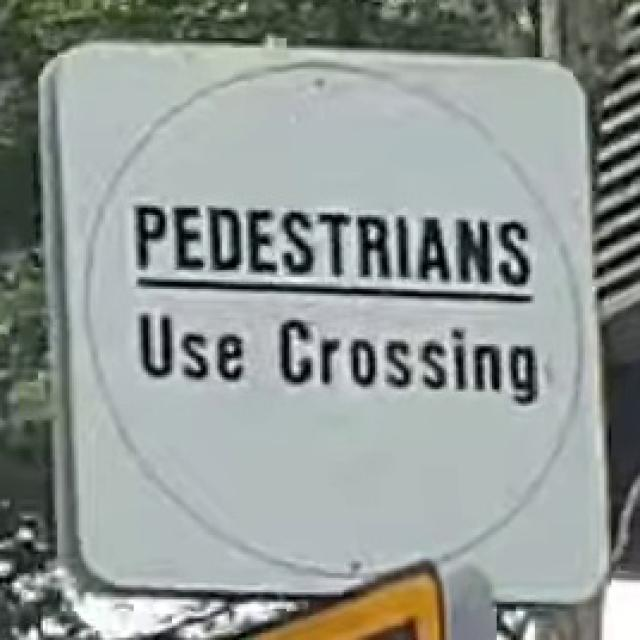pedestriancrossing_sign: (31, 33, 614, 614)
